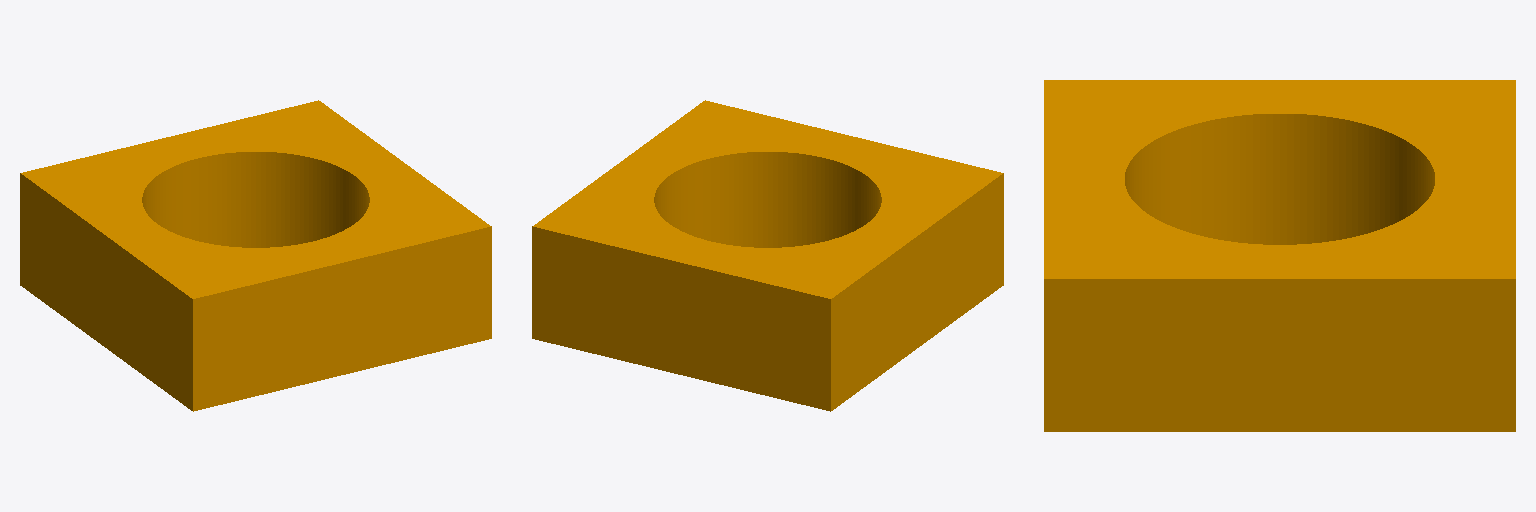
robot.urdf — factory_round_hole_16mm:
<?xml version="1.0"?>
<robot name="factory_round_hole_16mm">
    <link name="factory_round_hole_16mm">
        <visual>
            <geometry>
                <mesh filename="../mesh/factory_insertion/factory_round_hole_16mm_subdiv_3x.obj"/>
            </geometry>
        </visual>
        <collision>
            <geometry>
                <mesh filename="../mesh/factory_insertion/factory_round_hole_16mm_subdiv_3x.obj"/>
            </geometry>
            <sdf resolution="256"/>
        </collision>
    </link>
</robot>

--- Render facts (derived) ---
Views: 3 orthographic renders of the robot side by side, from view 1: azimuth 30°, elevation 25°; view 2: azimuth 150°, elevation 25°; view 3: azimuth 270°, elevation 25°.
Robot: factory_round_hole_16mm — 1 links, 0 joints (none); root link factory_round_hole_16mm; default pose: every joint at zero.
Visible links, largest first — view 1: factory_round_hole_16mm; view 2: factory_round_hole_16mm; view 3: factory_round_hole_16mm.
Link boxes in pixels (bbox=[...]): factory_round_hole_16mm: bbox=[20, 100, 491, 411]; factory_round_hole_16mm: bbox=[532, 100, 1003, 411]; factory_round_hole_16mm: bbox=[1044, 80, 1515, 431].
Bounding box of the posed robot: 0.025 × 0.025 × 0.009 m (x, y, z).
1 mesh visuals loaded from 1 distinct referenced files (1 OBJ).